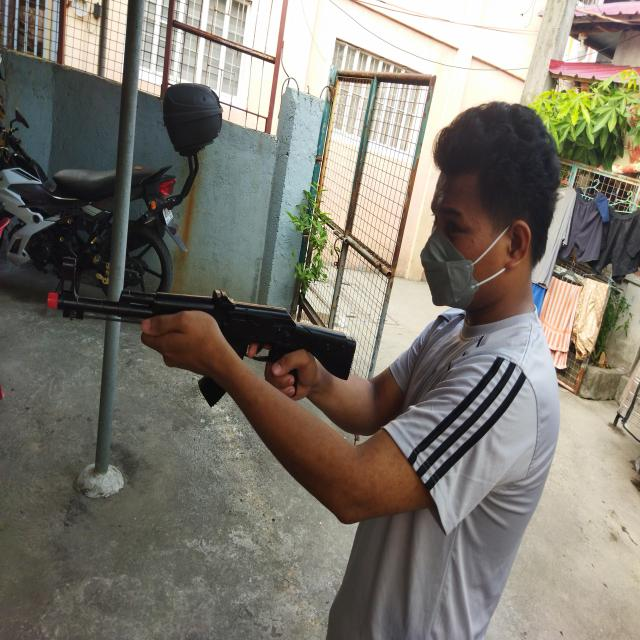rifle: (41, 287, 362, 401)
